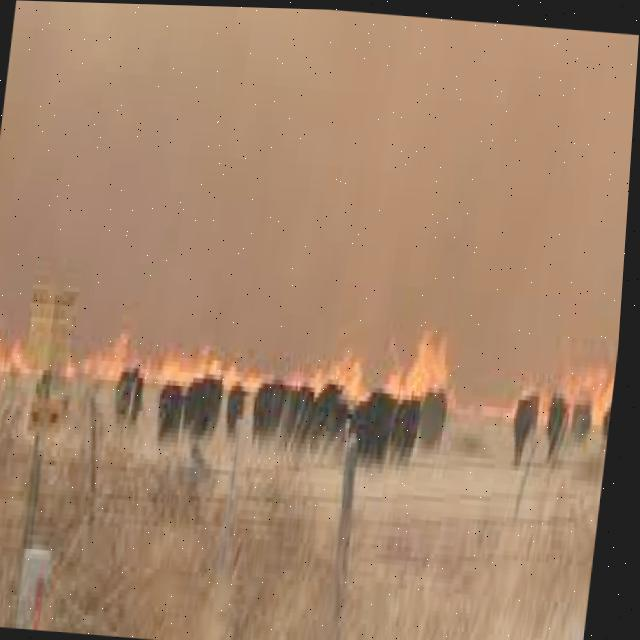smoke: (0, 0, 639, 394)
